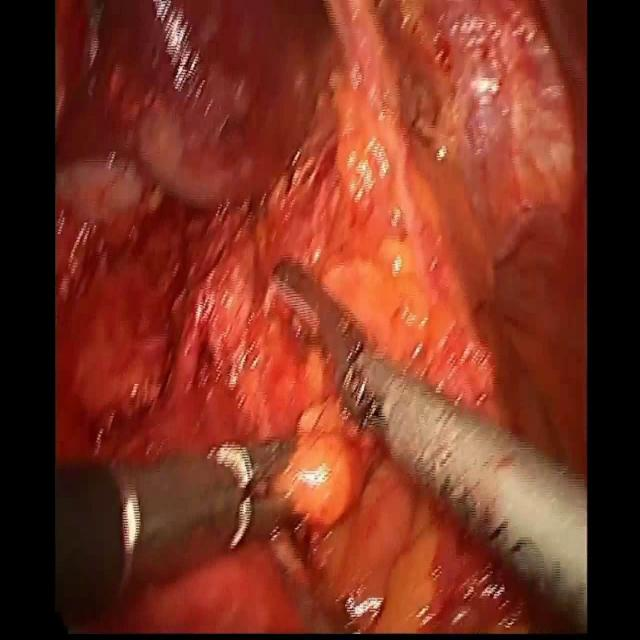surgical-area: (56, 0, 588, 633)
surgical-tool: (270, 260, 588, 631), (56, 437, 296, 628)
